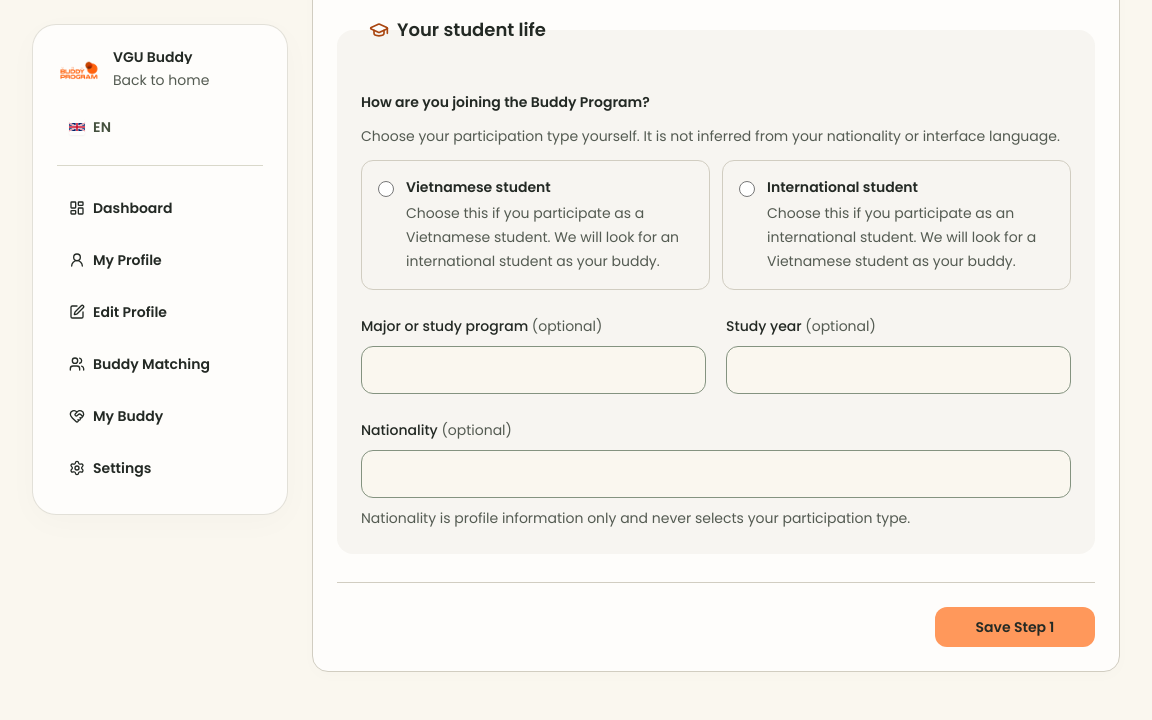
Test case: FE-025 onboarding identity step › validates required identity fields and focuses the first error before saving
(page scrolled)
Step 1. Click the button "Save Step 1" → x=1015, y=627, box left=935, top=607, right=1095, bottom=647
(page scrolled)
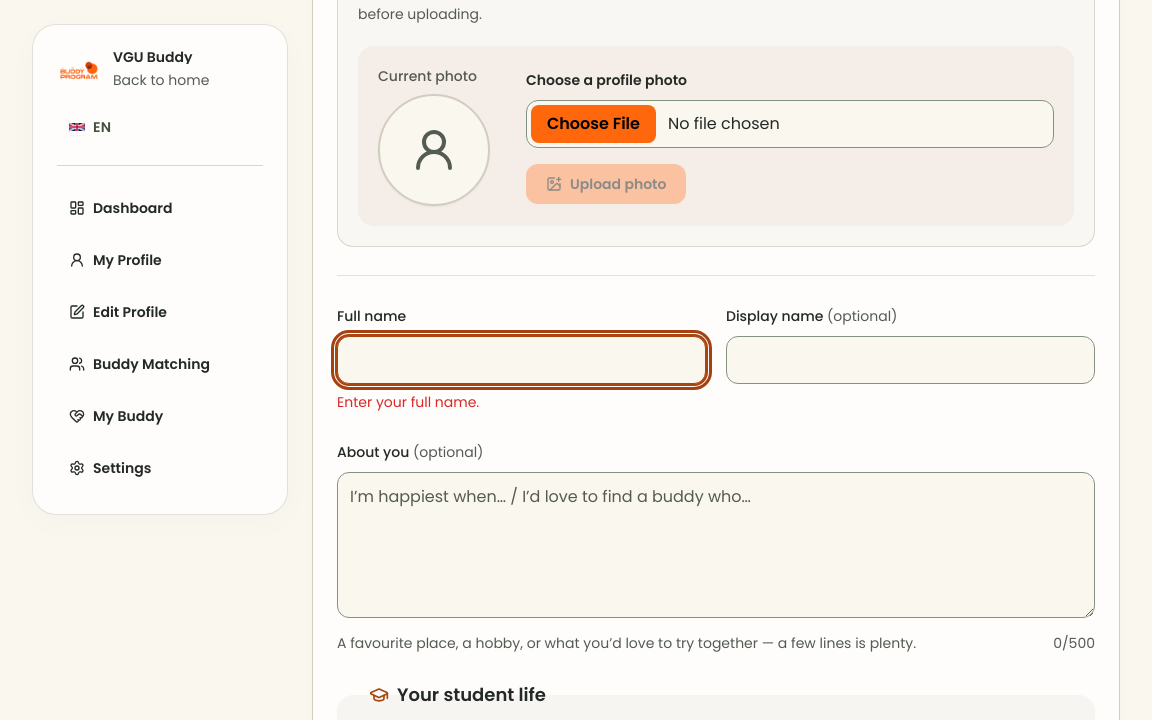
expect the text "Enter your full name." is shown: met, box left=337, top=392, right=479, bottom=412
